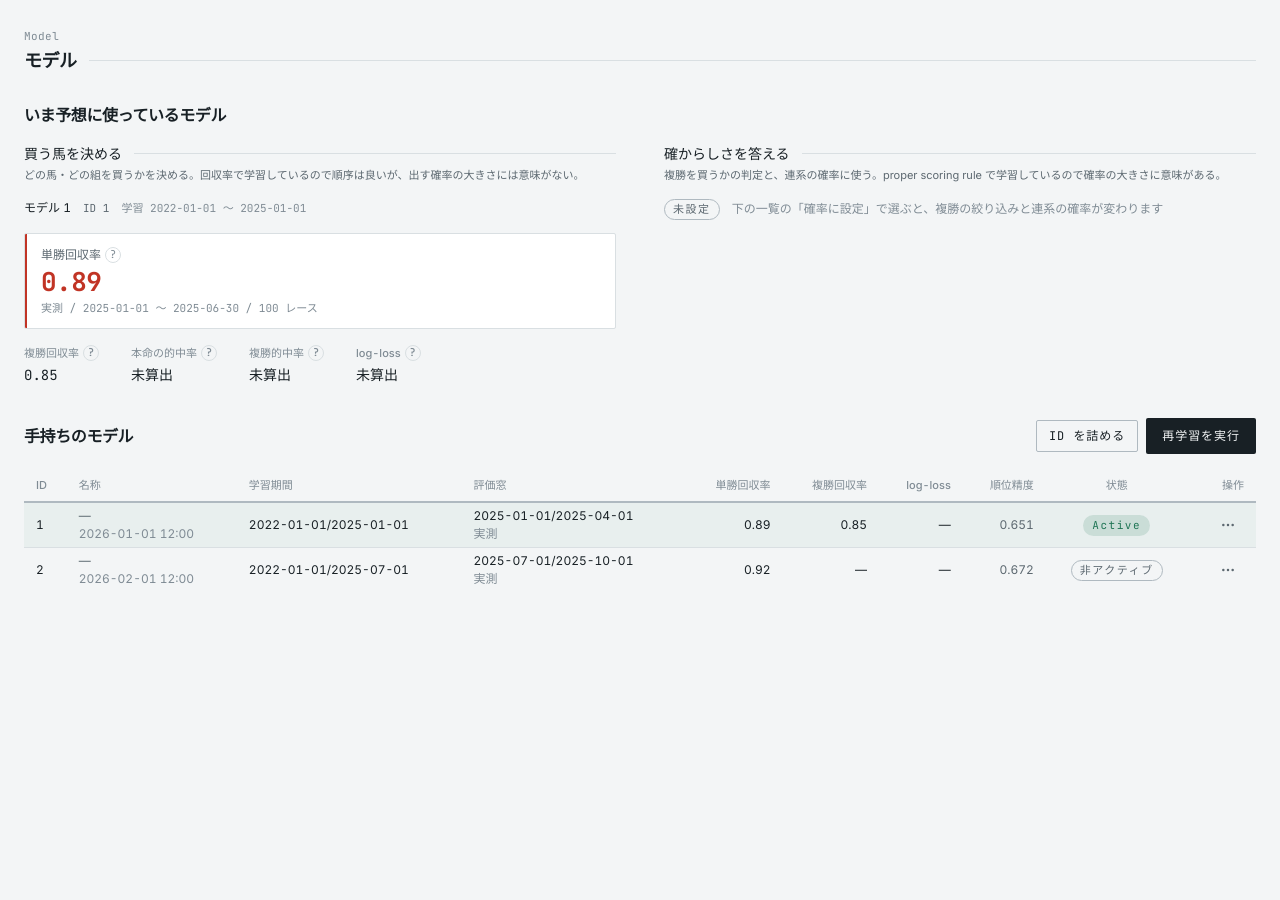
Test case: Models — モデル管理 › 行の操作は三点リーダーにまとめる (数字より操作が目立たないように)
This screenshot has width=1280, height=900.
Check: the menu item "Activate" is not shown
Click the button named "の操作".
click(1228, 570)  # box [1212,554,1244,586]
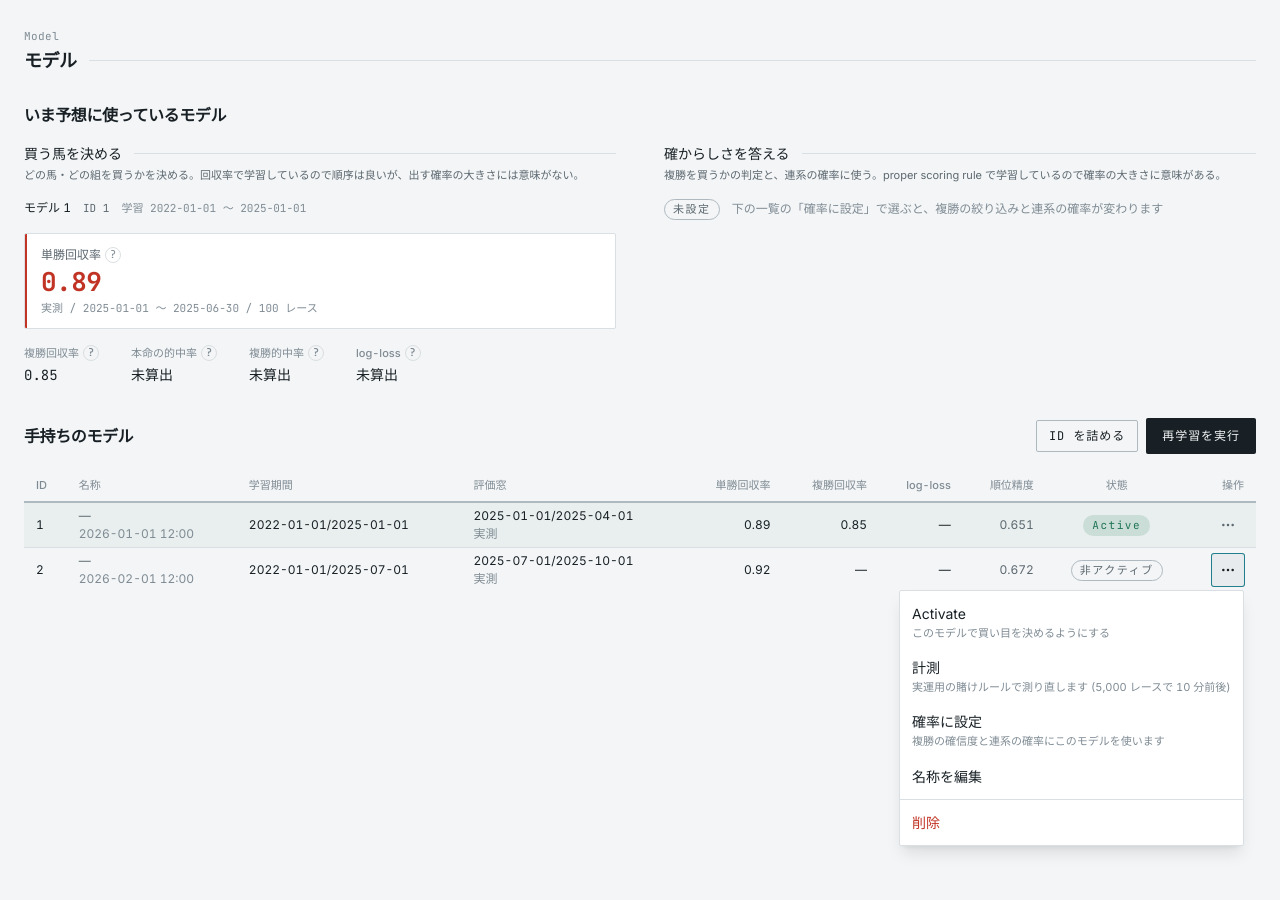
Check: the menu item "Activate このモデルで買い目を決めるようにする" is enabled, box [900,595,1243,649]
Check: the menu item "計測 実運用の賭けルールで測り直します (5,000 レースで 10 分前後)" is shown, box [900,649,1243,703]
Check: the menu item "削除" is shown, box [900,804,1243,840]
